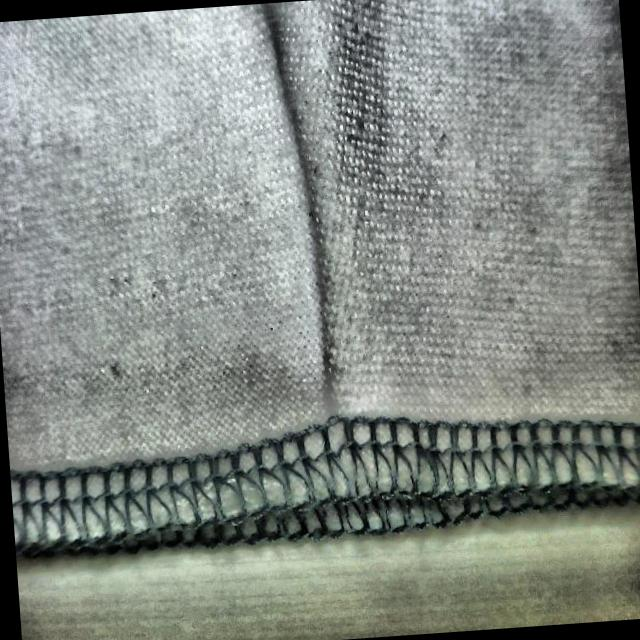gray stitch: (255, 171, 417, 504)
